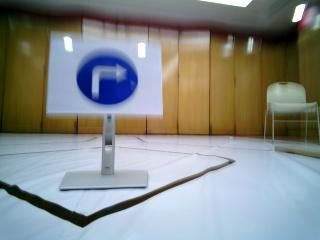right: (56, 38, 158, 110)
